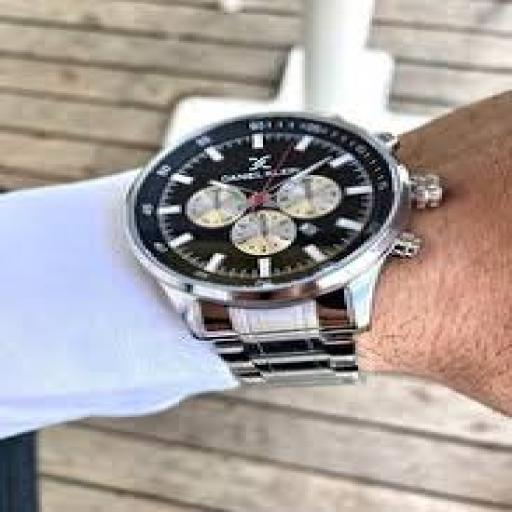KolSaati: (84, 55, 456, 418)
